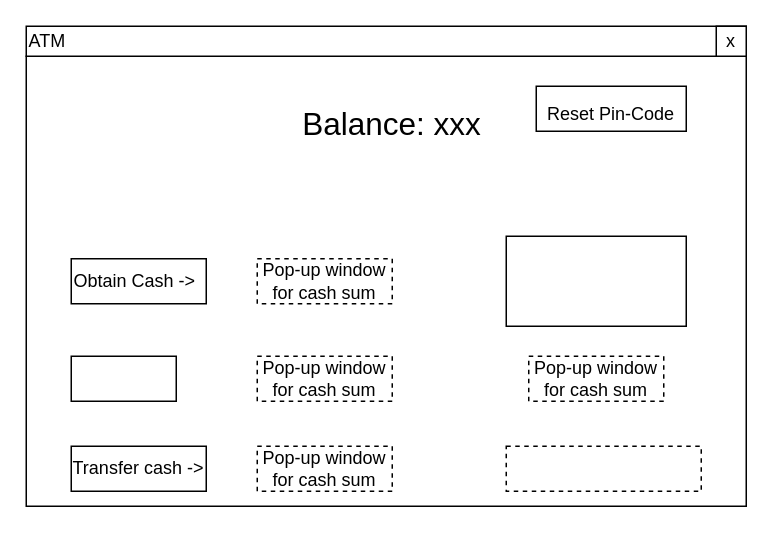
This 773x533 diagram has some shape labels left out. Each missing label, with the centre of its shape:
"Money Surfeit Processing Service" belongs at point 595,280.
"Pop-up window for credit card number" belongs at point 603,468.
"Put Cash ->" belongs at point 123,378.
